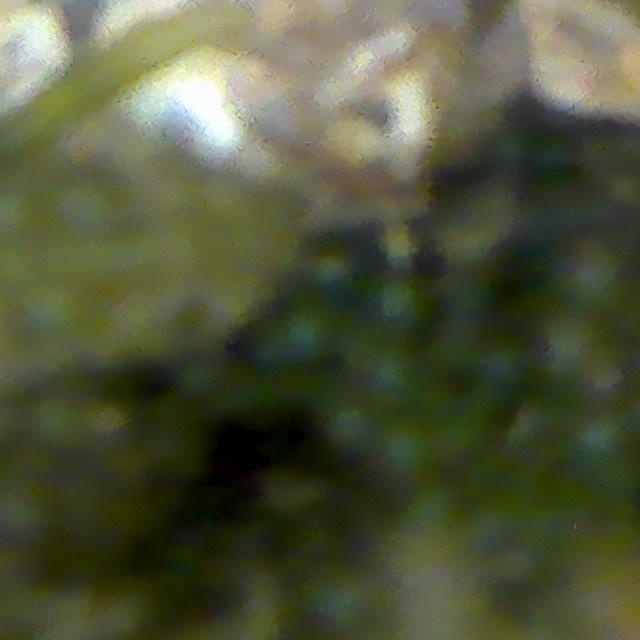SeaGrape: (558, 239, 627, 315), (52, 174, 122, 241), (540, 312, 602, 382), (570, 408, 631, 470), (362, 344, 417, 405), (378, 419, 433, 478), (279, 305, 335, 362), (326, 401, 380, 455), (374, 277, 424, 329)
